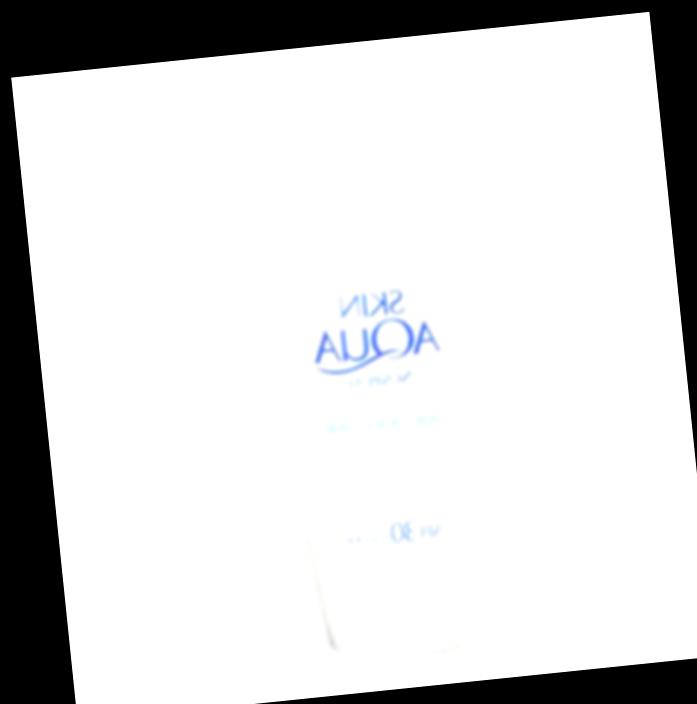cosmetic: (258, 82, 497, 650)
